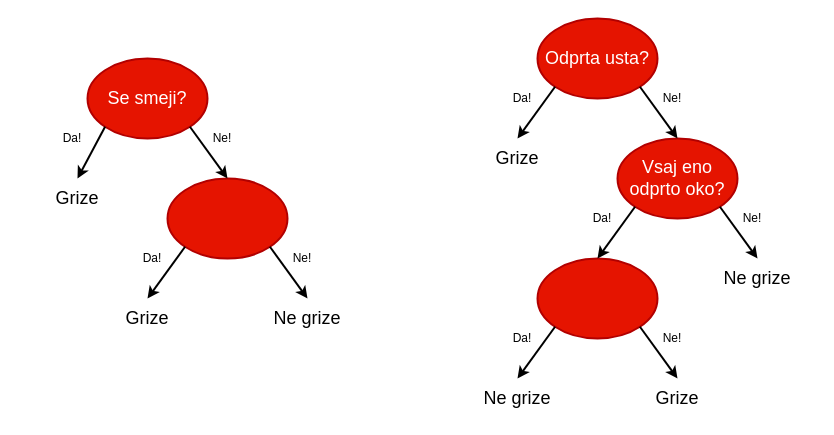
Some shapes in this 834 by 435 pixel diagram are drawn without their labels. Here are the shapes that lost their labels. From the top down, the centre of each, then its label:
At pixel 227 218: "Oči oblike X?".
At pixel 597 298: "Pripomočki?".
